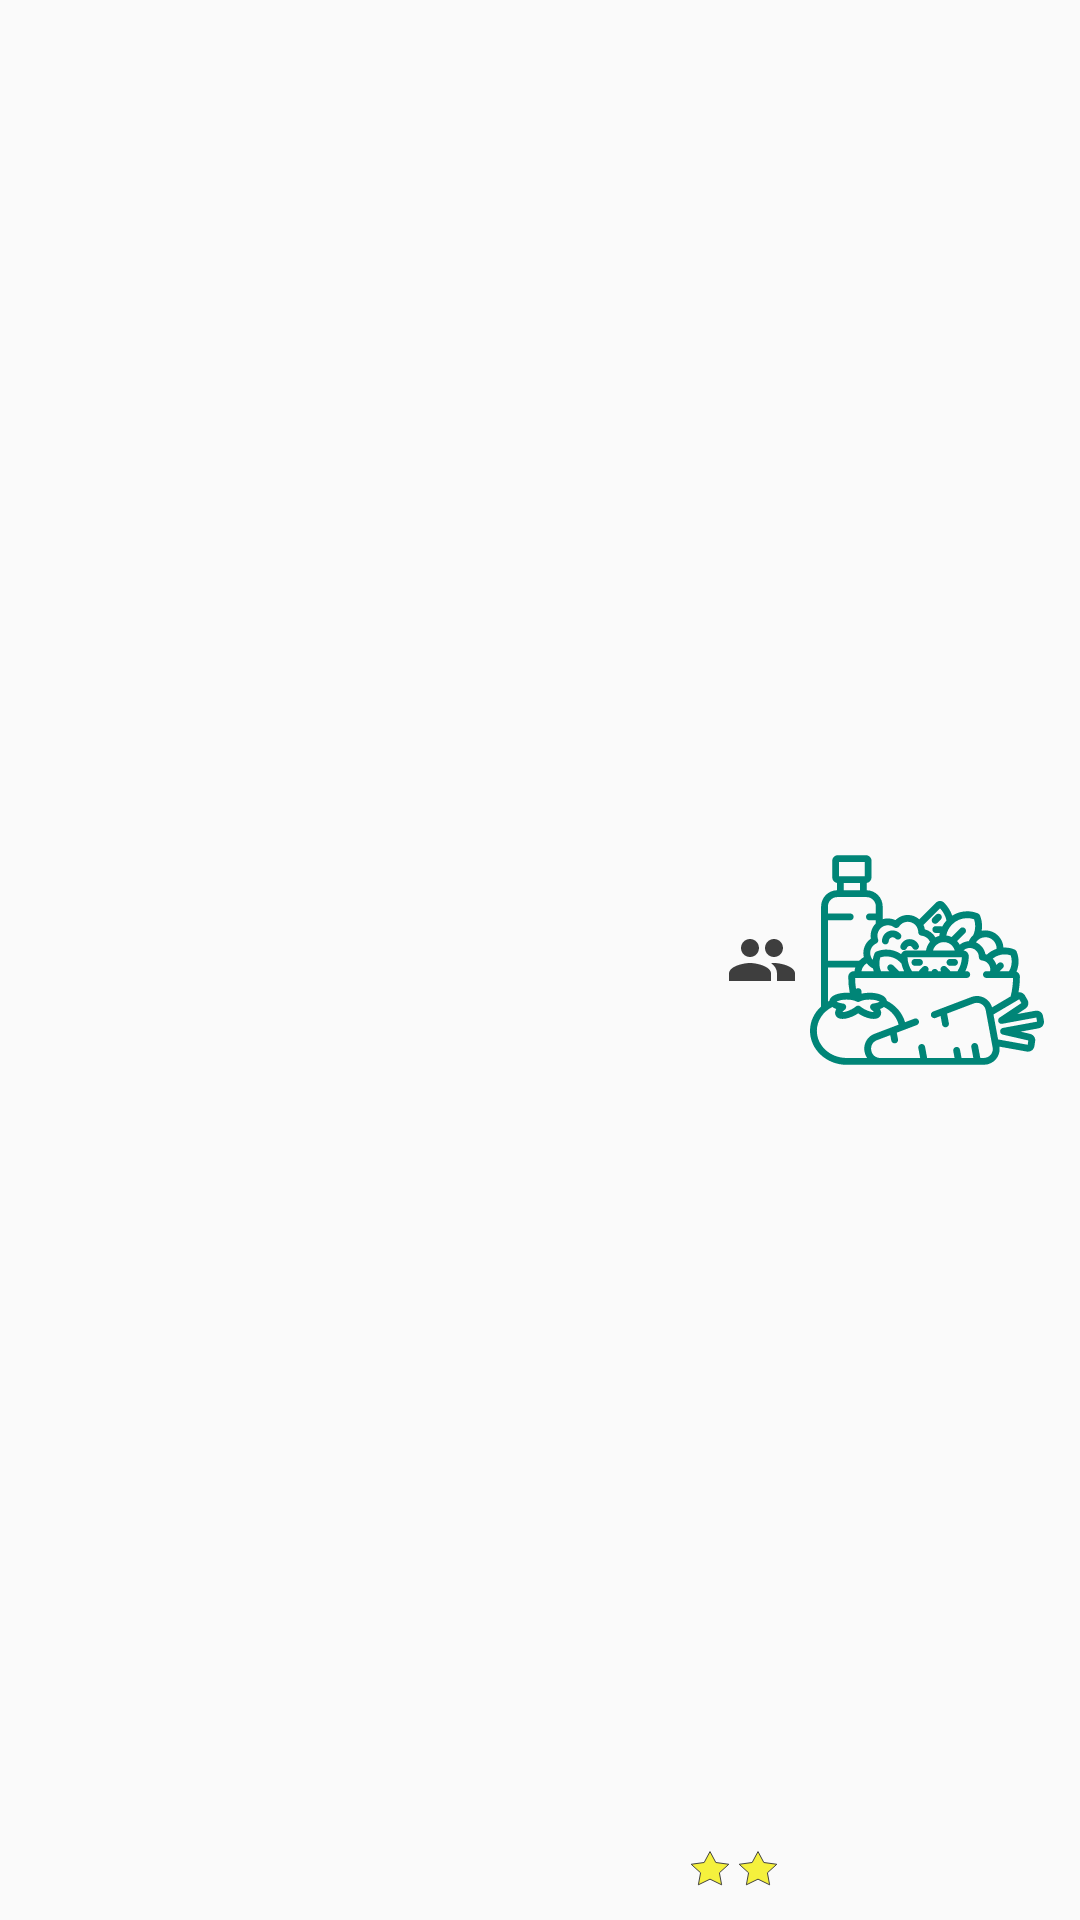

Screen size 1080x1920. Icon name, then its box in pixels as bbox=(x1, y1, x2, y2):
food: bbox=(810, 855, 1044, 1065)
star two: bbox=(691, 1851, 777, 1886)
workmates: bbox=(729, 939, 795, 981)
